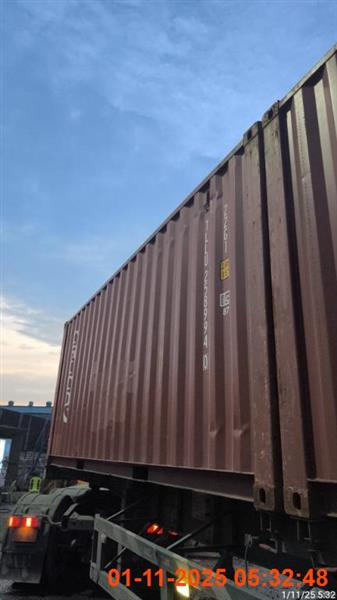broken: (44, 44, 335, 586), (0, 482, 93, 596)
